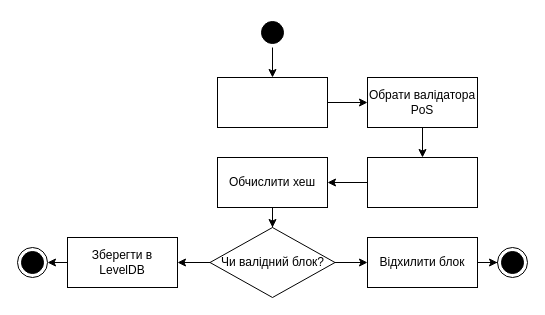
The diagram is 545 pixels wide and 315 high, and some of its shapes have lost their labels. The box of each missing label's shape, as (x1, y1, x2, y2) in pixels:
Зібрати транзакції з пулу: (216, 76, 328, 128)
Створити новий блок з транзакціями: (366, 156, 478, 208)
